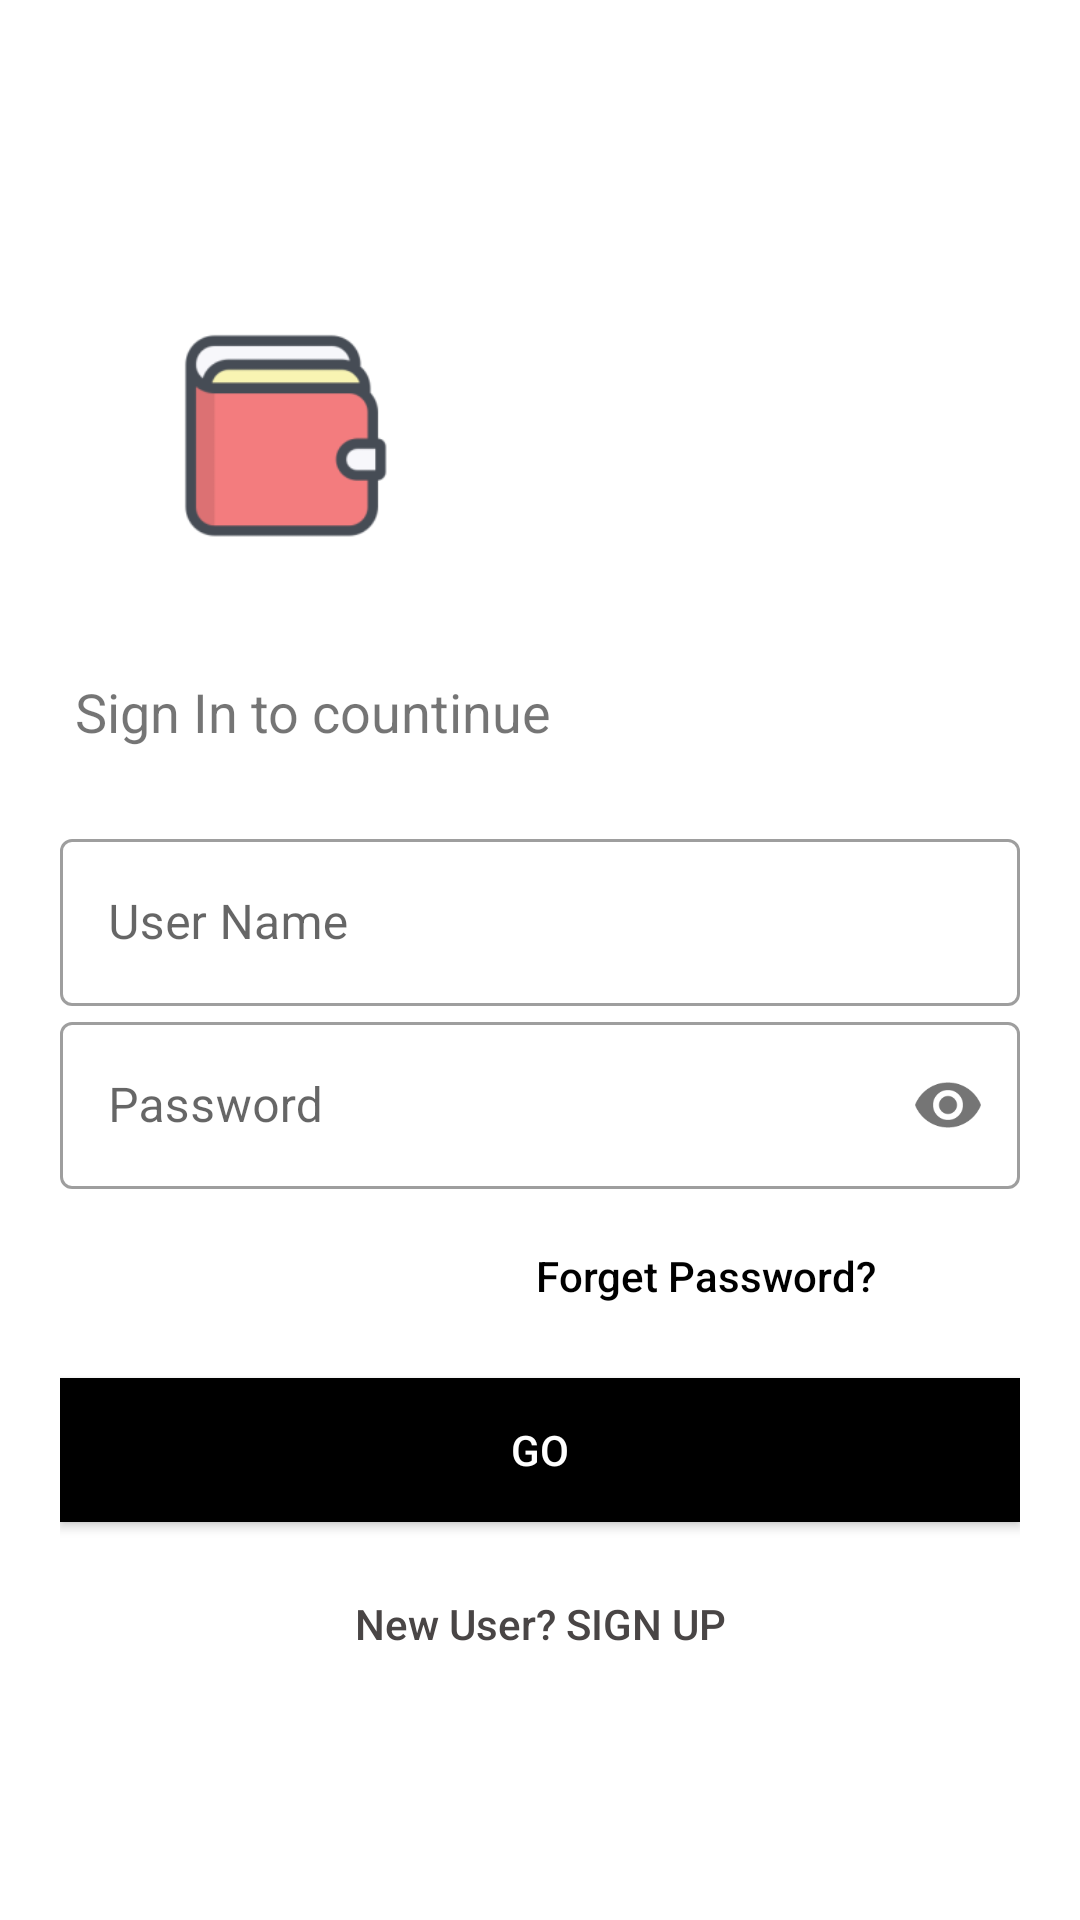

Where icons sit on this 1080px x 1920px app screen, as [x1, y1, x2, y2]:
wallet: [185, 335, 387, 537]
